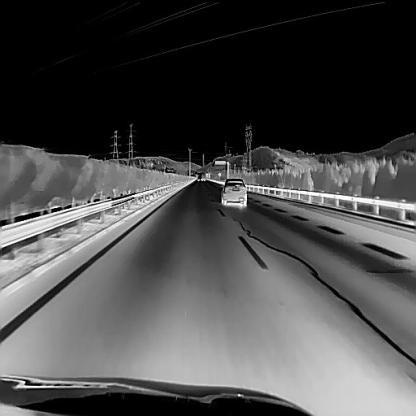car: (221, 177, 247, 206)
